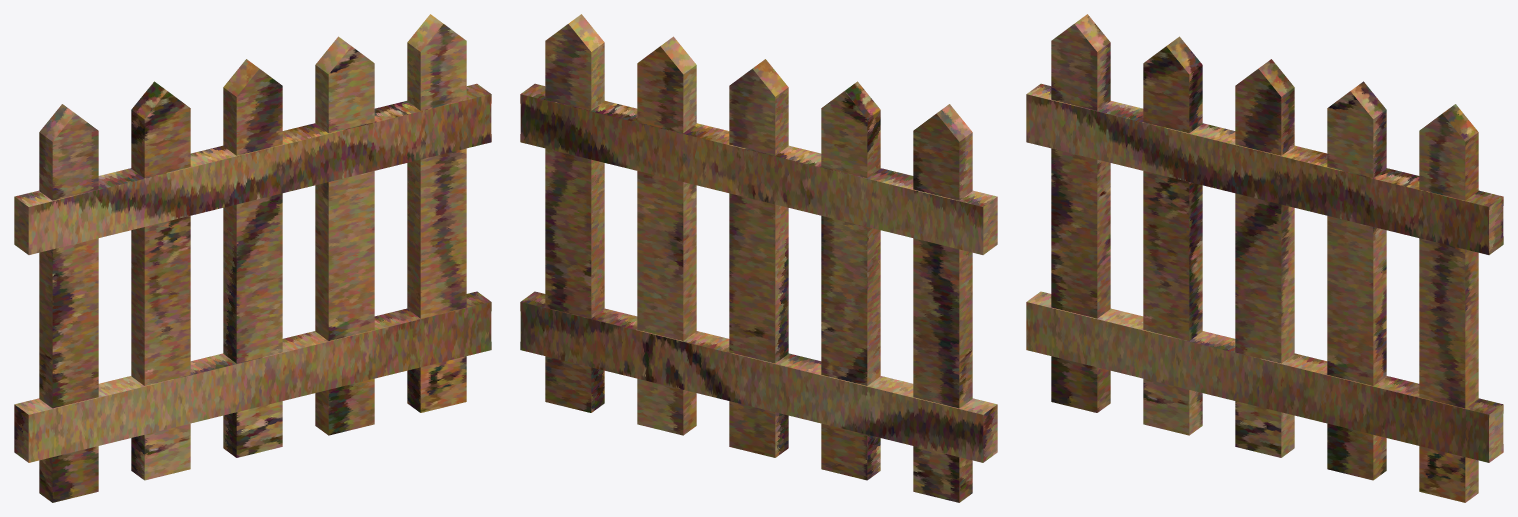
The model's file is fence.fbx.
3 renders of one model, left to right at view 1: azimuth 30°, elevation 25°; view 2: azimuth 150°, elevation 25°; view 3: azimuth 330°, elevation 25°, orthographic.
Visible parts, largest first — view 1: polySurface5; view 2: polySurface5; view 3: polySurface5.
Boxes of the visible parts, x1,y1,x2,y2 form: polySurface5: (14, 14, 491, 502); polySurface5: (520, 14, 997, 502); polySurface5: (1026, 14, 1503, 502).
Size of the model in its own units: 10.06 by 7.97 by 0.5416.
Materials: 1 (1 with a texture image).
